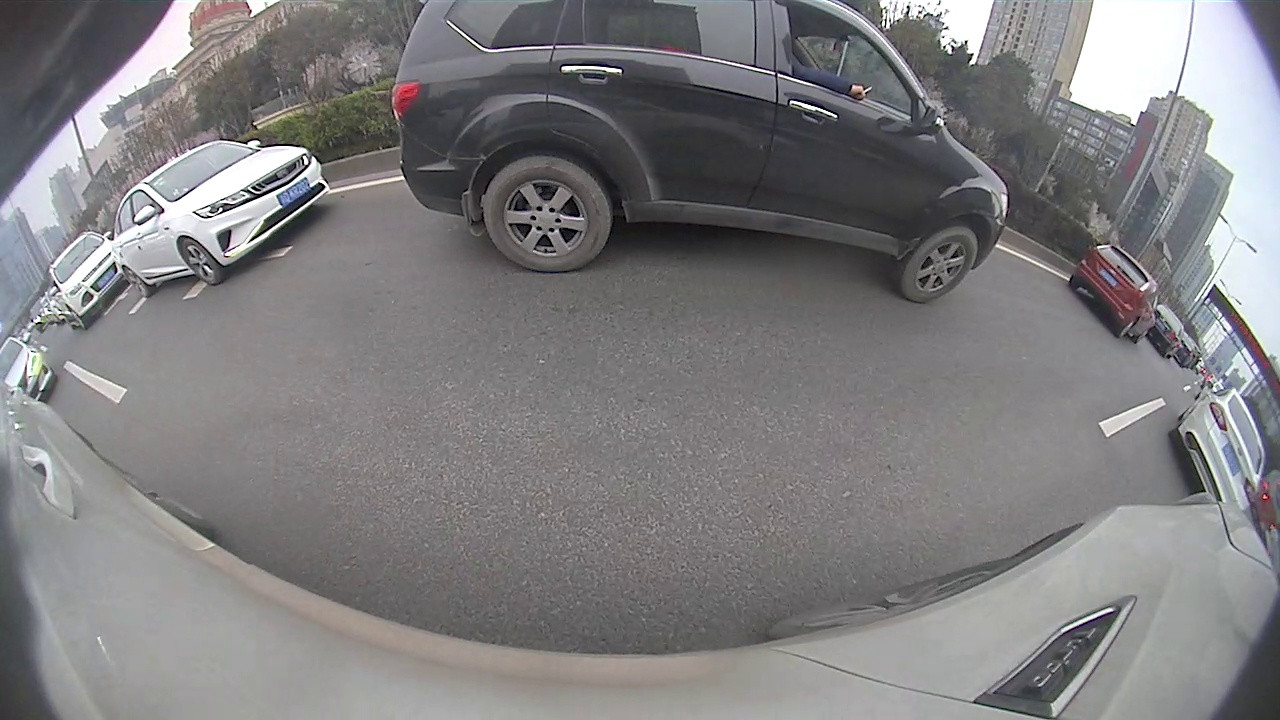car: (391, 1, 1008, 304), (110, 139, 333, 299), (1168, 385, 1268, 512), (1068, 241, 1158, 345), (47, 230, 132, 331), (1, 336, 59, 402), (1148, 302, 1187, 360)
front: (897, 225, 980, 304), (181, 238, 222, 286)
rear: (482, 152, 611, 274), (131, 271, 153, 298)
